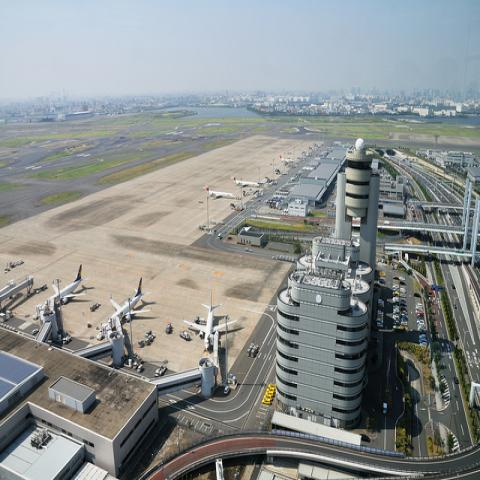car: (378, 268, 425, 328), (418, 325, 426, 333), (399, 302, 407, 308), (401, 310, 408, 316), (401, 316, 407, 322), (400, 287, 406, 293), (377, 322, 383, 328), (392, 291, 399, 296), (419, 338, 426, 343), (416, 309, 423, 313), (419, 334, 426, 338), (400, 299, 406, 303), (420, 342, 426, 346), (393, 314, 399, 318)
truck: (155, 364, 167, 376), (250, 344, 258, 357), (180, 331, 191, 340), (165, 323, 172, 335), (145, 329, 152, 339), (137, 364, 144, 372), (224, 386, 230, 395)
